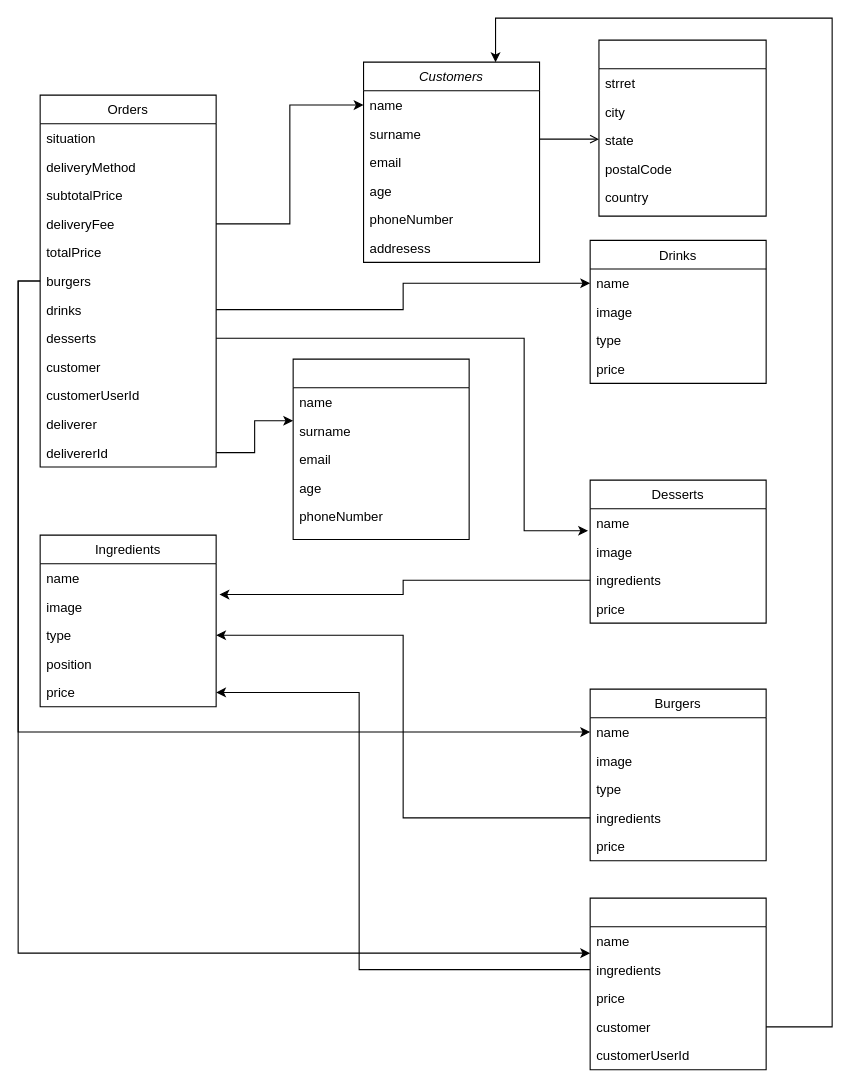
Some shapes in this 850 by 1088 pixel diagram are drawn without their labels. The shapes that lost their labels are listed below. From the top down, each one's box as (x1, y1, x2, y2) in pixels, then its label:
(598, 39, 766, 216): Addresses
(292, 358, 469, 540): Deliverers
(589, 897, 766, 1070): CustomBurgers
